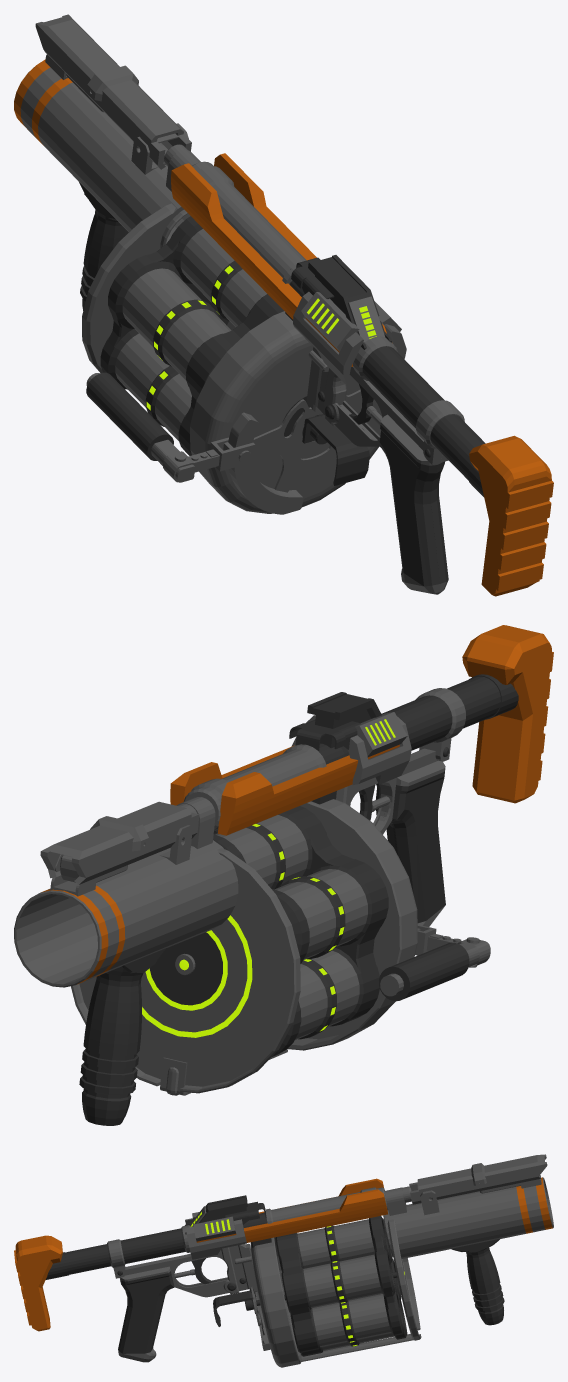
File: concussion.glb
3 renders of one model, top to bottom at view 1: azimuth 30°, elevation 25°; view 2: azimuth 150°, elevation 25°; view 3: azimuth 270°, elevation 25°, orthographic. The views are drawn at different scales.
Visible parts, largest first — view 1: concussion; view 2: concussion; view 3: concussion.
Part boxes in pixels (<box>): concussion: <box>14,14,553,596</box>; concussion: <box>14,625,553,1125</box>; concussion: <box>14,1154,553,1367</box>.
Size of the model in its own units: 0.2099 by 0.2628 by 0.6452.
